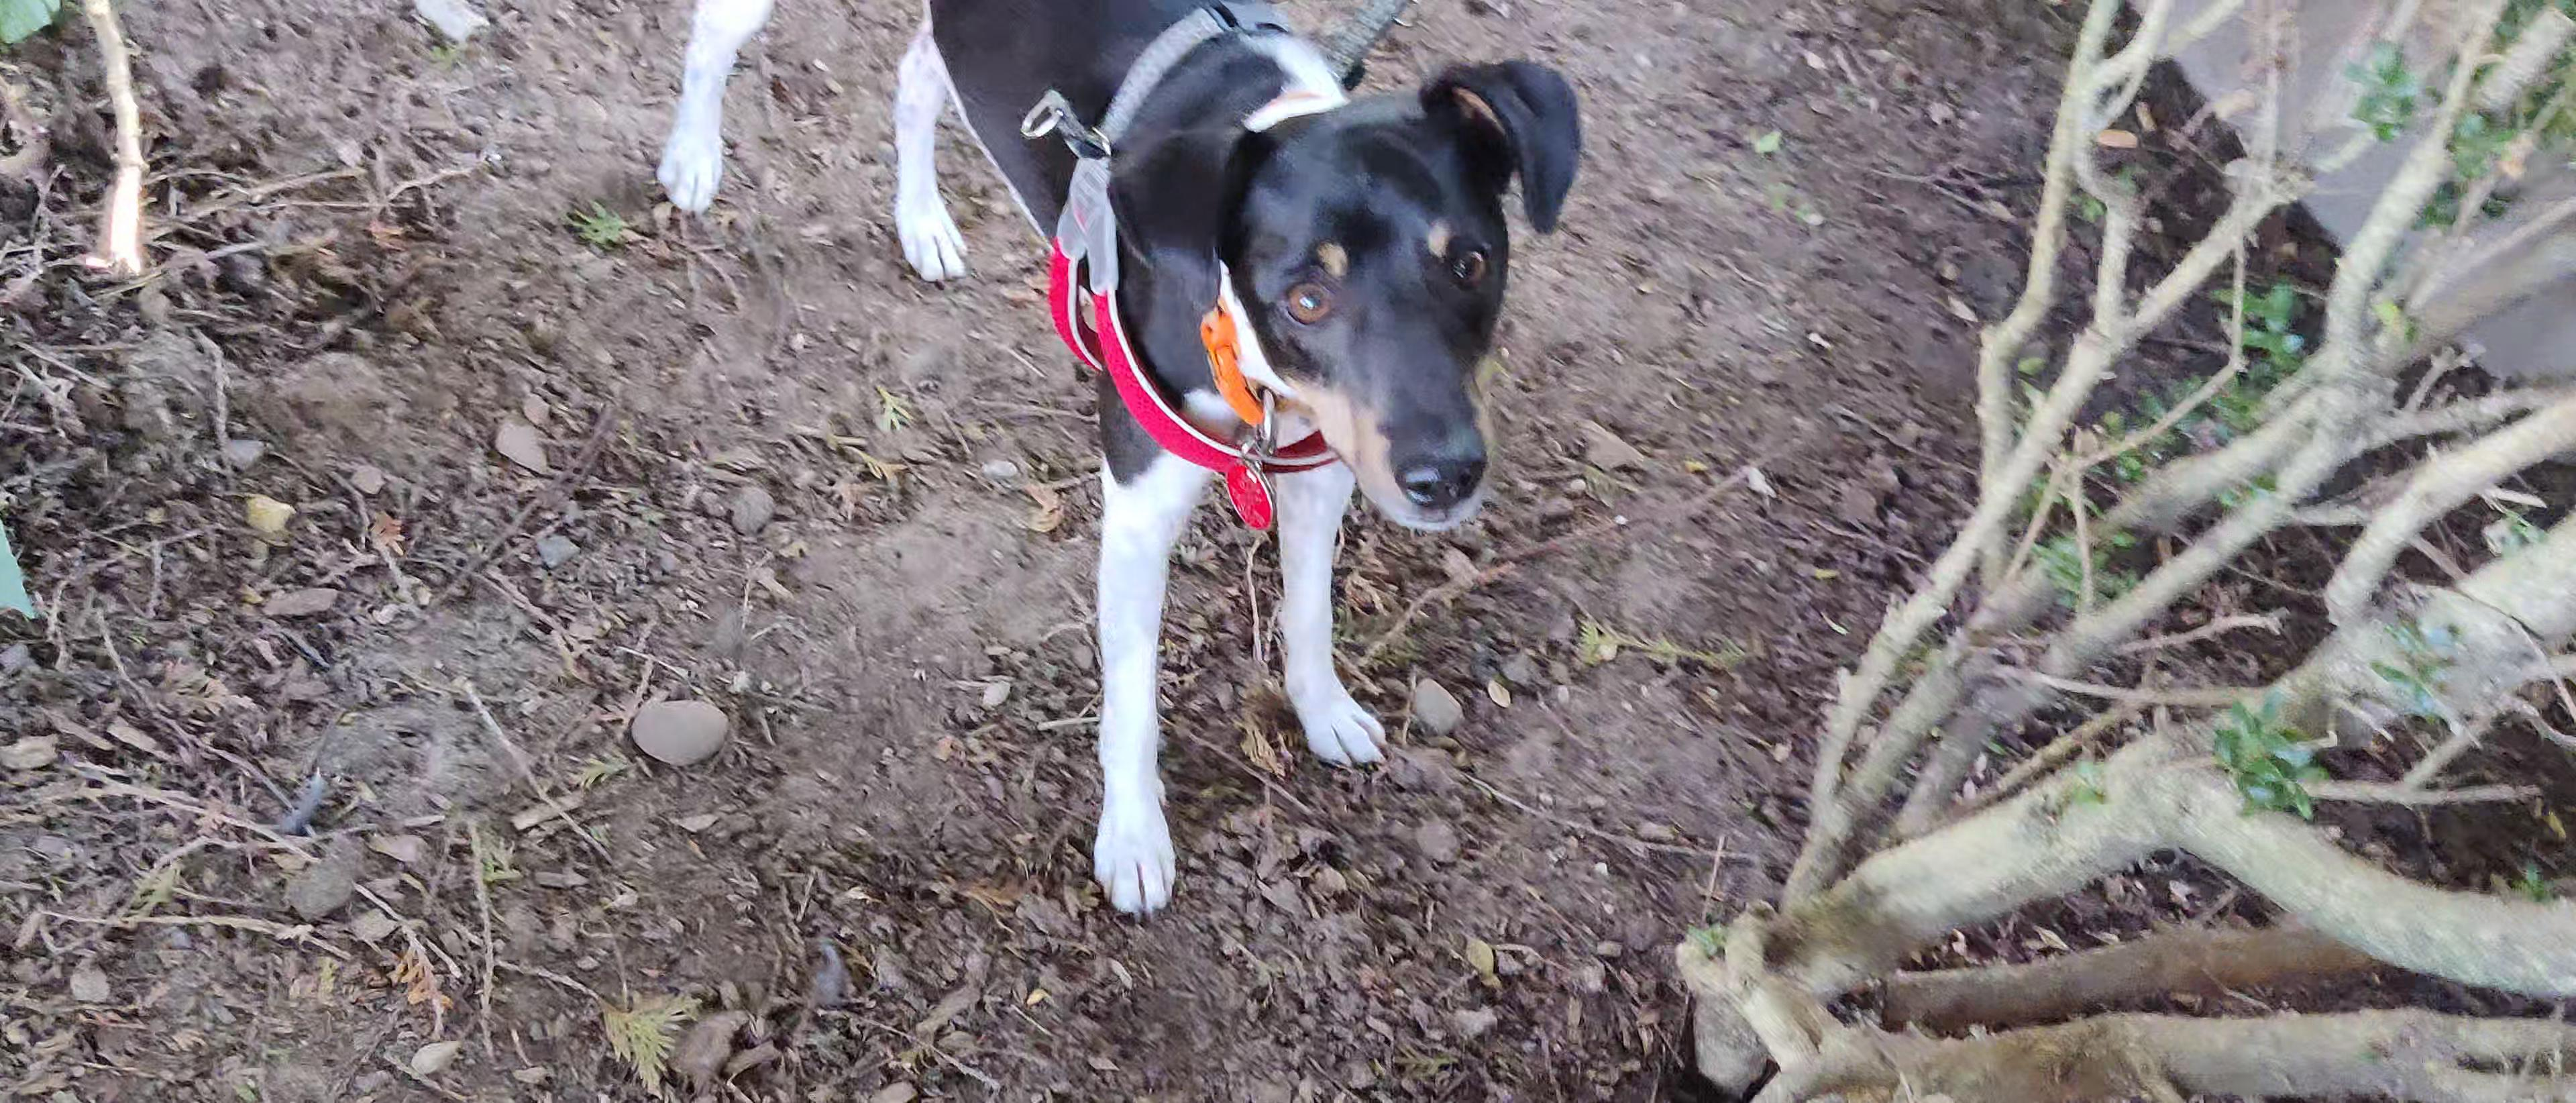Dog: (641, 0, 1598, 935)
